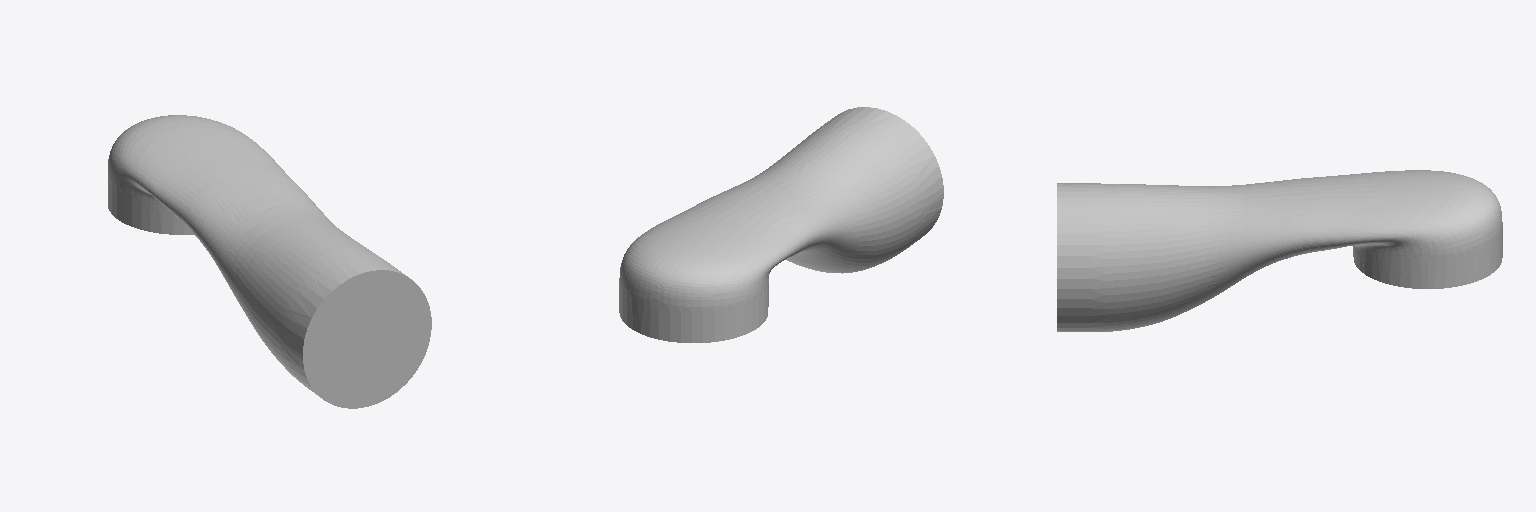
File: processed_arm_half_2.obj
The picture shows the model from 3 angles: view 1: azimuth 30°, elevation 25°; view 2: azimuth 150°, elevation 25°; view 3: azimuth 270°, elevation 25°; orthographic projection.
Visible parts, largest first — view 1: arm_half_2; view 2: arm_half_2; view 3: arm_half_2.
Part boxes in pixels (x1,y1,x2,y2): arm_half_2: (108,115,431,408); arm_half_2: (619,107,943,342); arm_half_2: (1057,170,1502,331).
Size of the model in its own units: 0.0825 by 0.0849 by 0.2461.